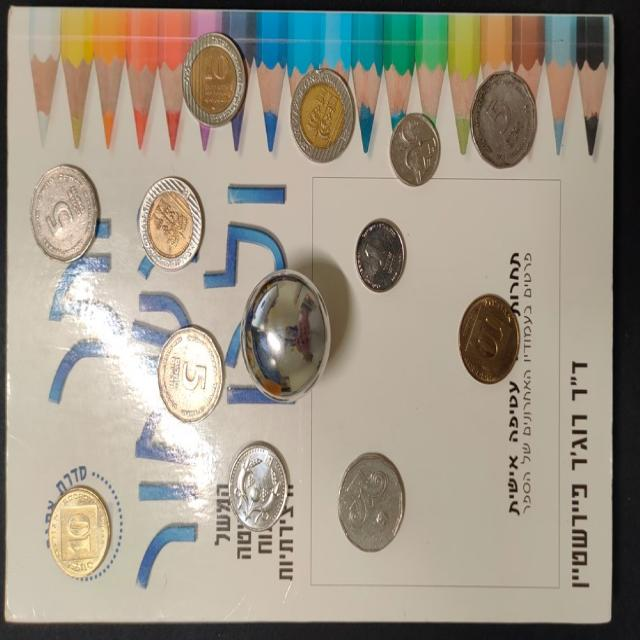1-shekel: (352, 215, 411, 291), (388, 112, 439, 190)
10-shekel: (288, 63, 359, 168), (135, 178, 205, 273), (181, 35, 246, 127)
2-shekel: (228, 442, 291, 536)
5-shekel: (334, 449, 406, 552), (468, 68, 540, 170), (158, 322, 227, 426), (30, 165, 100, 265)
